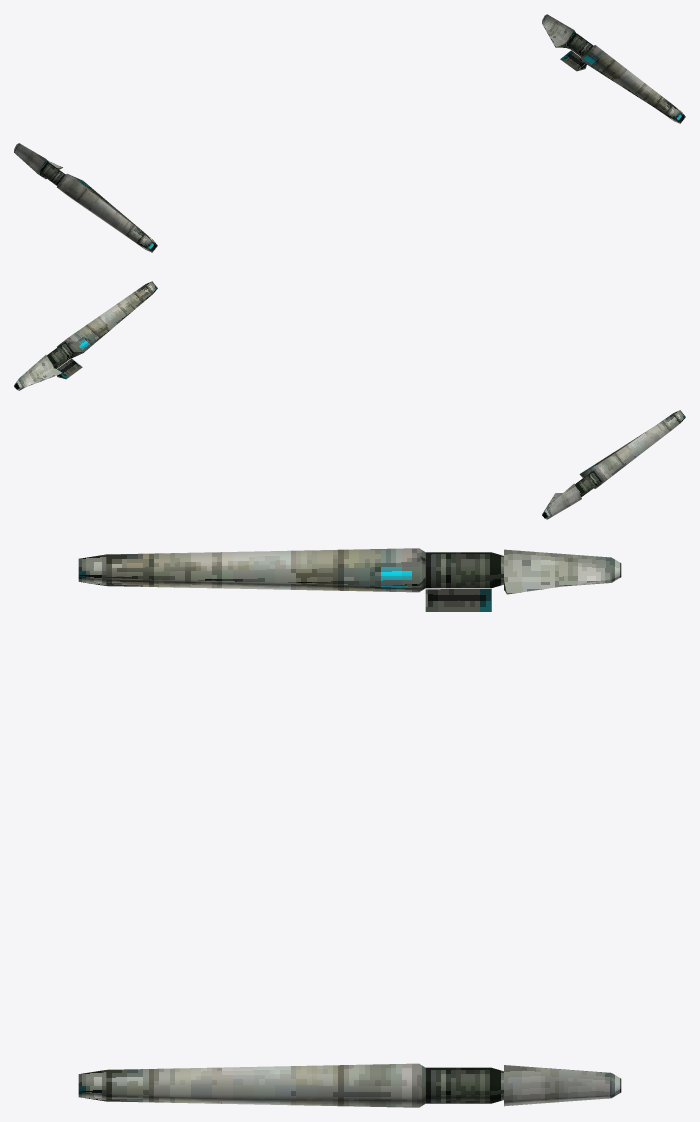
File: z95_weapon_s02_l2.fbx
The picture shows the model from 3 angles, top to bottom: view 1: azimuth 30°, elevation 25°; view 2: azimuth 150°, elevation 25°; view 3: azimuth 270°, elevation 25°; orthographic projection. The views are drawn at different scales.
Parts seen in each view (by area): view 1: mesh_node; view 2: mesh_node; view 3: mesh_node.
Boxes of the visible parts, box(x1,y1,x2,y2) form: mesh_node: box(14, 14, 685, 252); mesh_node: box(14, 281, 685, 519); mesh_node: box(78, 548, 621, 1107).
Bounding box in the file's own units: 15.15 × 0.6226 × 6.48.
1 material, 1 textured.
